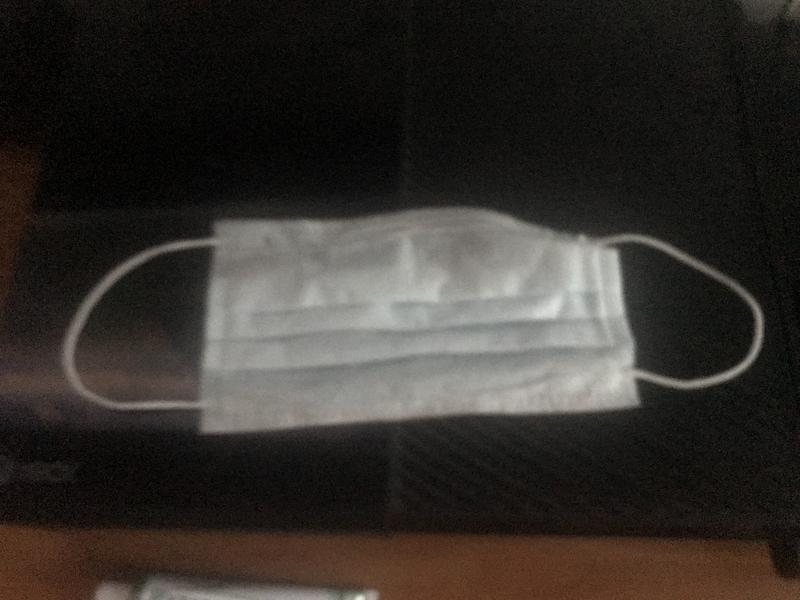medical_mask: (69, 206, 763, 434)
